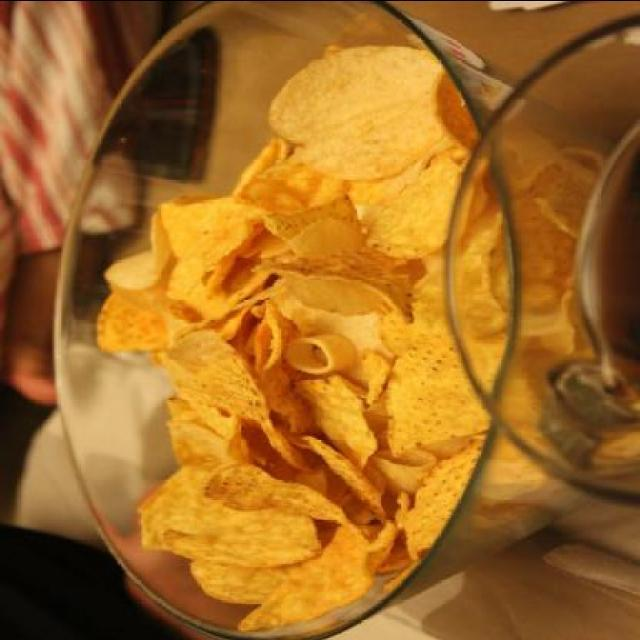Chips packaged: (88, 36, 534, 628)
